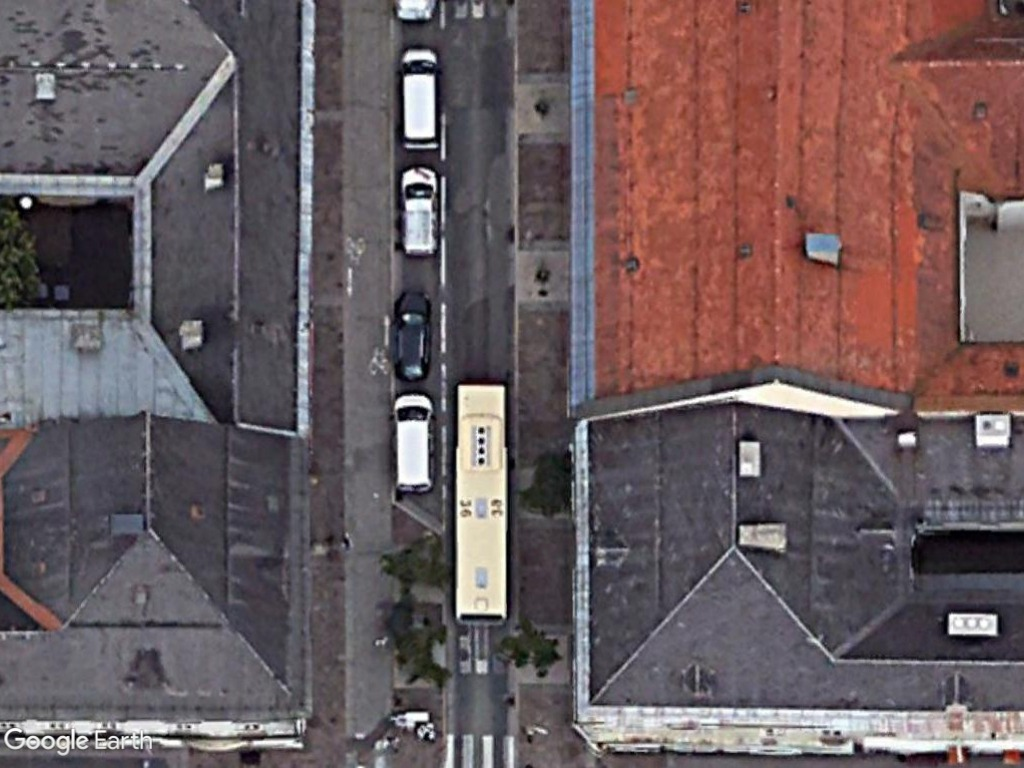bus: (449, 379, 513, 630)
car: (390, 388, 433, 497), (389, 287, 435, 387)
van: (397, 45, 443, 155), (398, 163, 443, 261)
